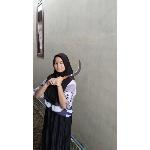Celurit: (50, 57, 84, 86)
